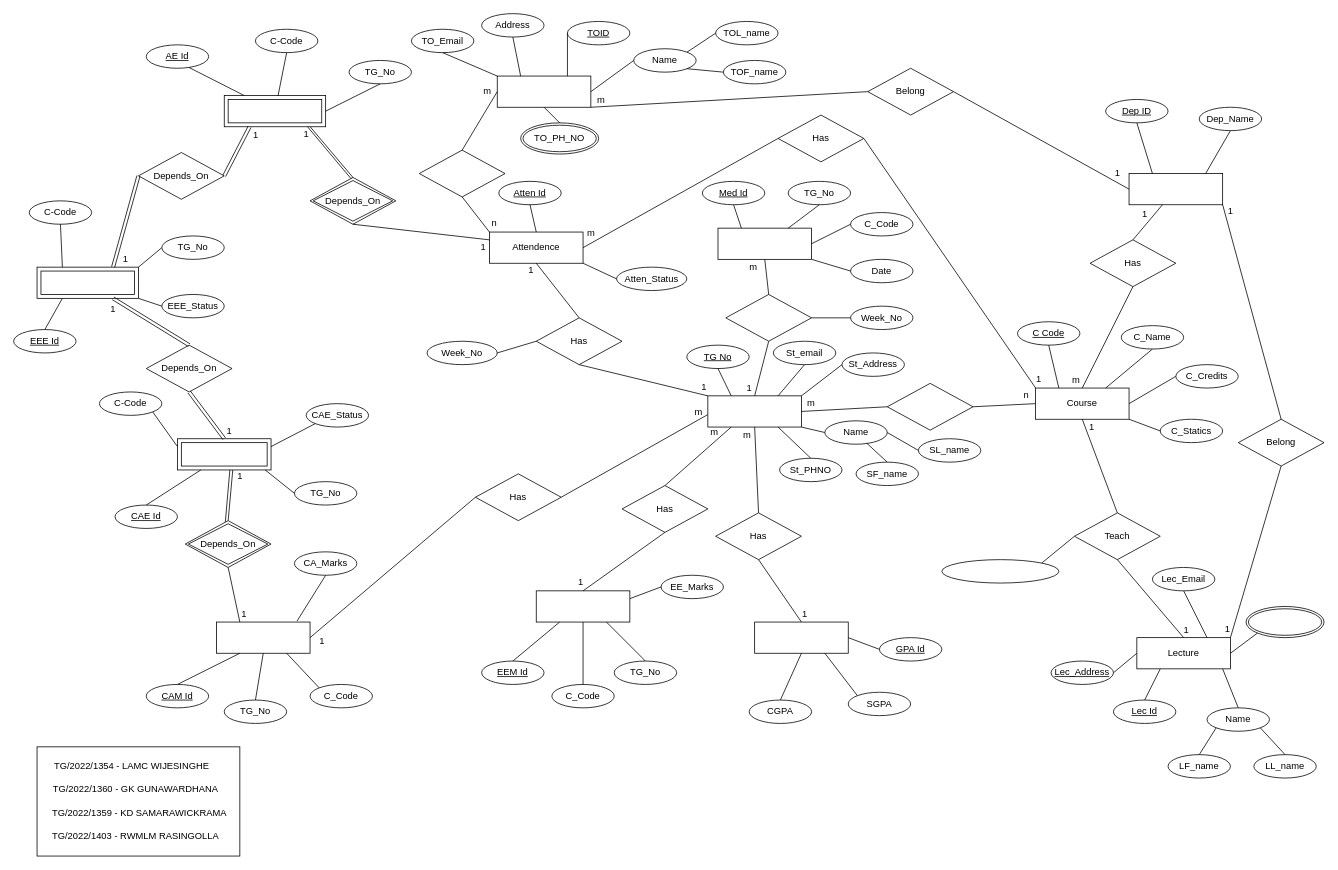
The diagram is 1338 pixels wide and 870 high, and some of its shapes have lost their labels. Each missing label, with the centre of its shape:
"Attendence_Eligibility" goes at [274,111].
"CA_Eligibility" goes at [224,454].
"CA_Mark" goes at [263,637].
"Department" goes at [1175,189].
"End_Exam_Eligibility" goes at [87,282].
"End_Exam_Mark" goes at [582,606].
"GPA" goes at [801,637].
"Lec_PH_NO" goes at [1284,622].
"Mark" goes at [461,173].
"Medical" goes at [764,243].
"No_Of_Hours_Per_Week" goes at [1000,571].
"Student" goes at [754,411].
"Study" goes at [929,406].
"Submit" goes at [768,317].
"Technical_Officer" goes at [543,91].
